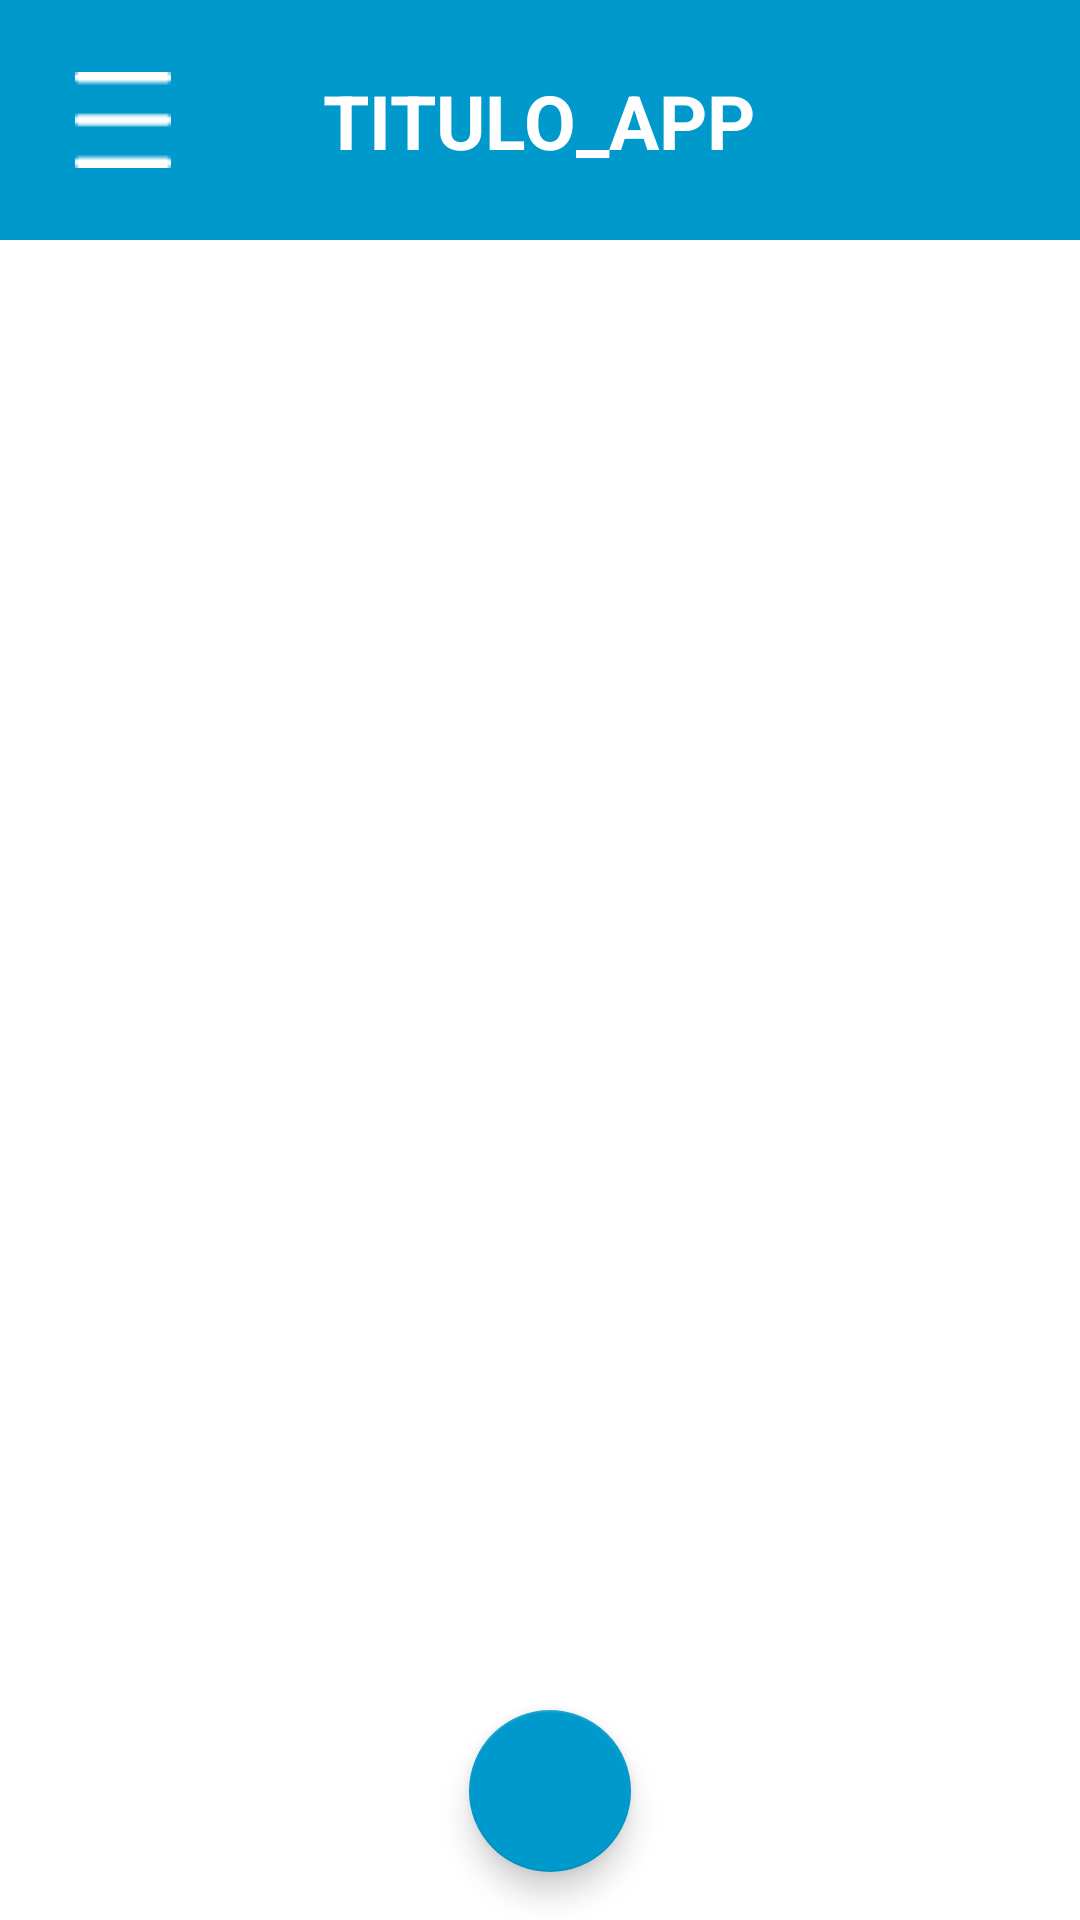

Locate icon controls on the screen. Image size 1080*1920, boxes as (x1, y1, x2, y2).
menubuger: (75, 72, 171, 168)
